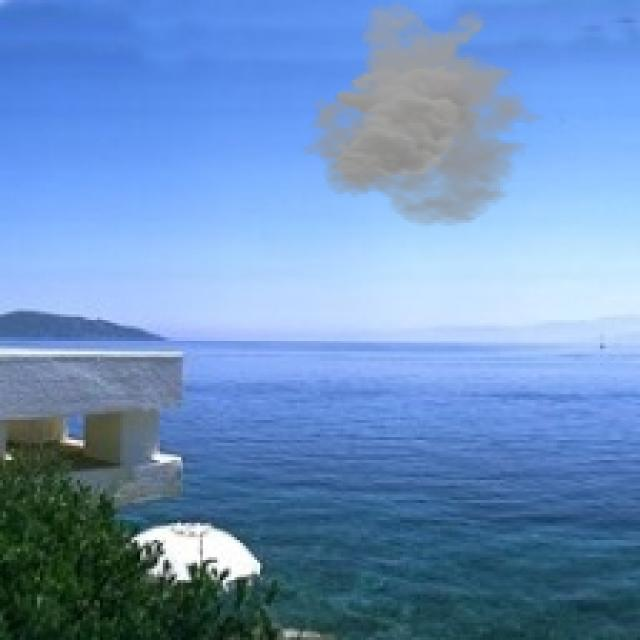Smoke: (299, 0, 552, 229)
